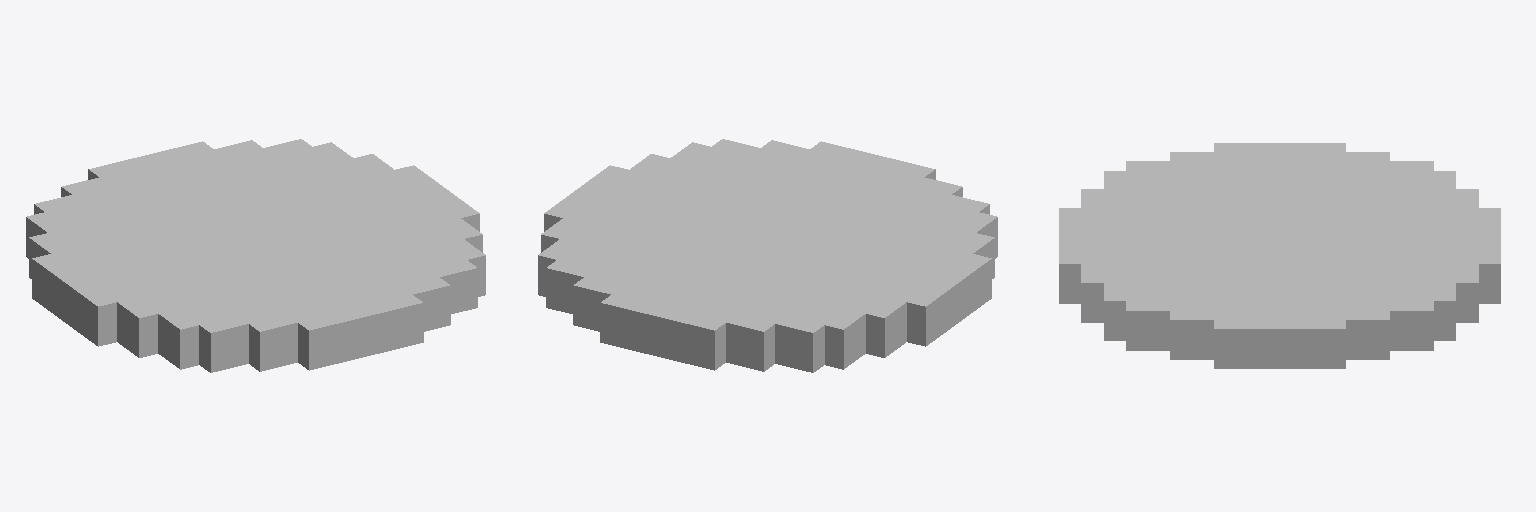
Rendered from coin.obj.
3 views of the same model, side by side, from view 1: azimuth 30°, elevation 25°; view 2: azimuth 150°, elevation 25°; view 3: azimuth 270°, elevation 25° (orthographic).
Bounding box in the file's own units: 20 × 2 × 20.